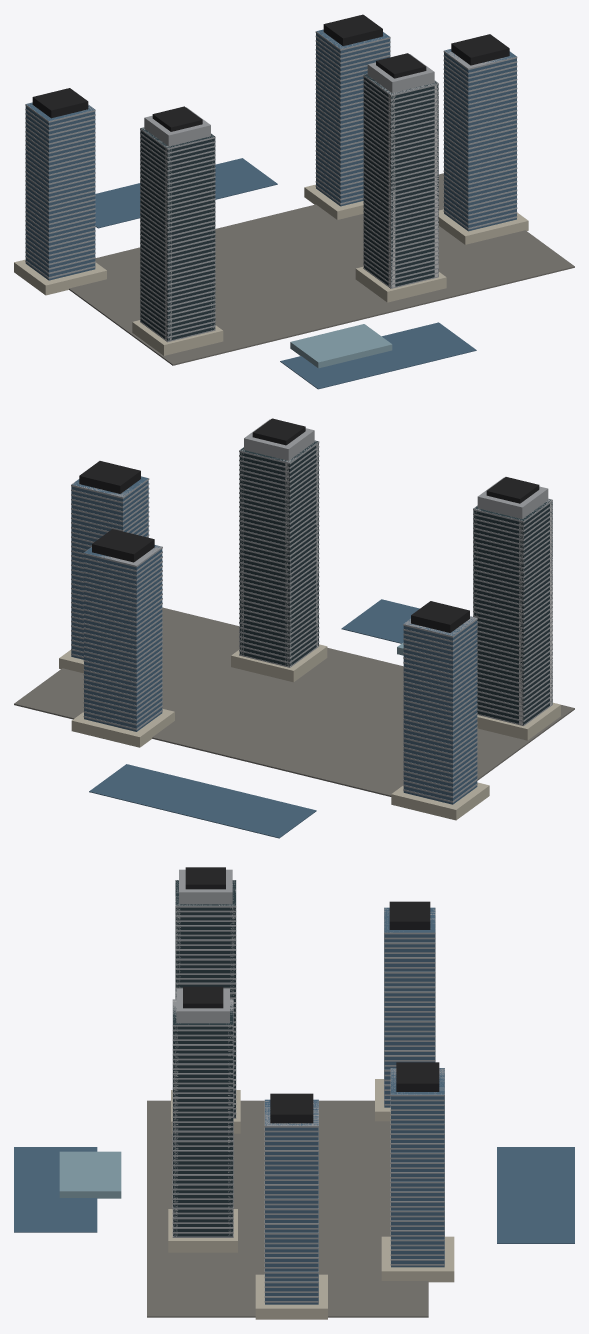
File: canary_wharf_pair.glb
The picture shows the model from 3 angles, top to bottom: view 1: azimuth 30°, elevation 25°; view 2: azimuth 150°, elevation 25°; view 3: azimuth 270°, elevation 25°; orthographic projection. The views are drawn at different scales.
Parts seen in each view (by area): view 1: canary_wharf_pair; view 2: canary_wharf_pair; view 3: canary_wharf_pair.
Boxes of the visible parts, left/top/right/bottom form: canary_wharf_pair: left=14, top=14, right=574, bottom=389; canary_wharf_pair: left=14, top=418, right=574, bottom=838; canary_wharf_pair: left=14, top=867, right=574, bottom=1319.
Size of the model in its own units: 405 by 200 by 418.
